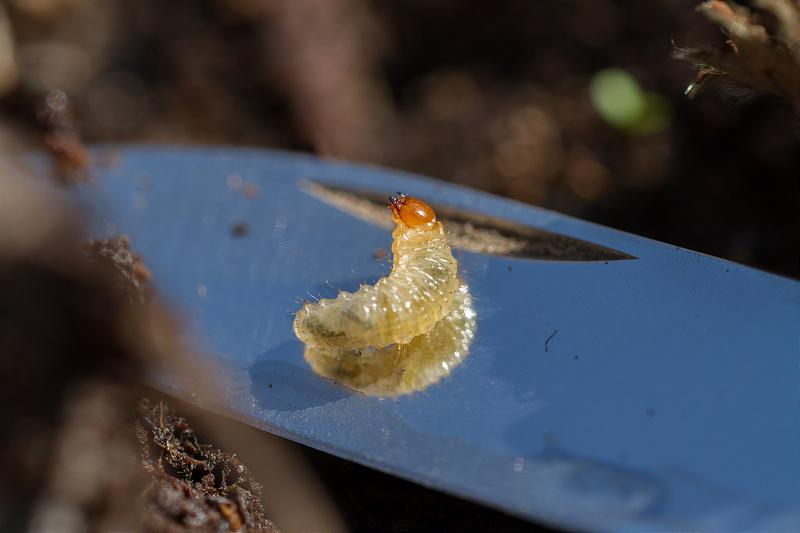grub: (291, 187, 481, 401)
